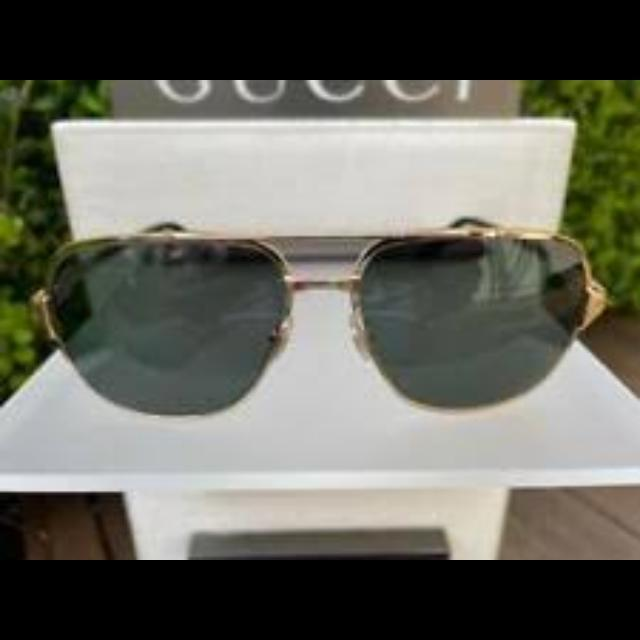sunglasses: (26, 214, 628, 418)
